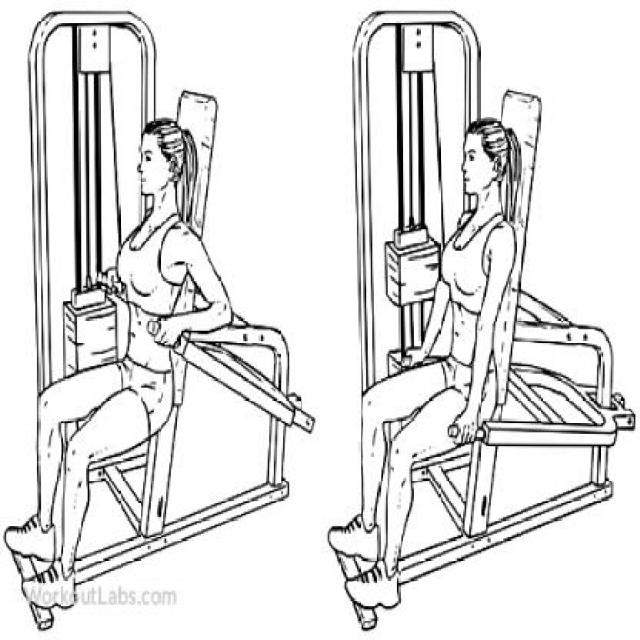seated dip machine: (6, 12, 317, 566)
